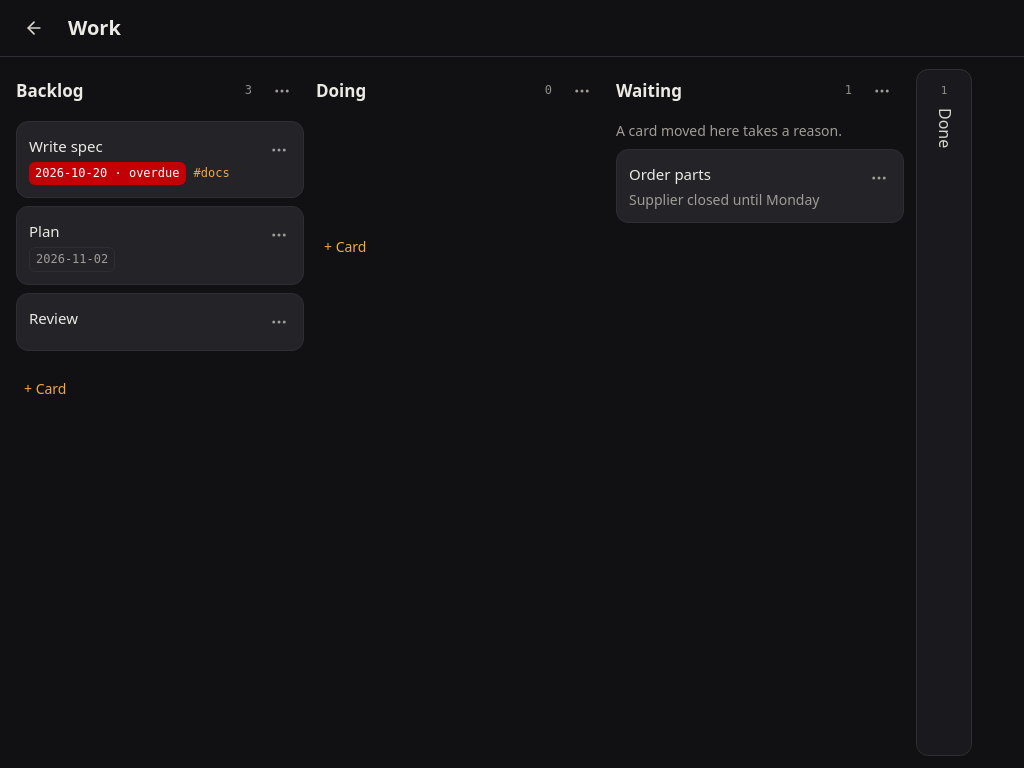
Test: the board › shows a failed Up in the lane
Click the button named "Actions for Plan".
click(279, 235)  # box [257, 213, 301, 257]
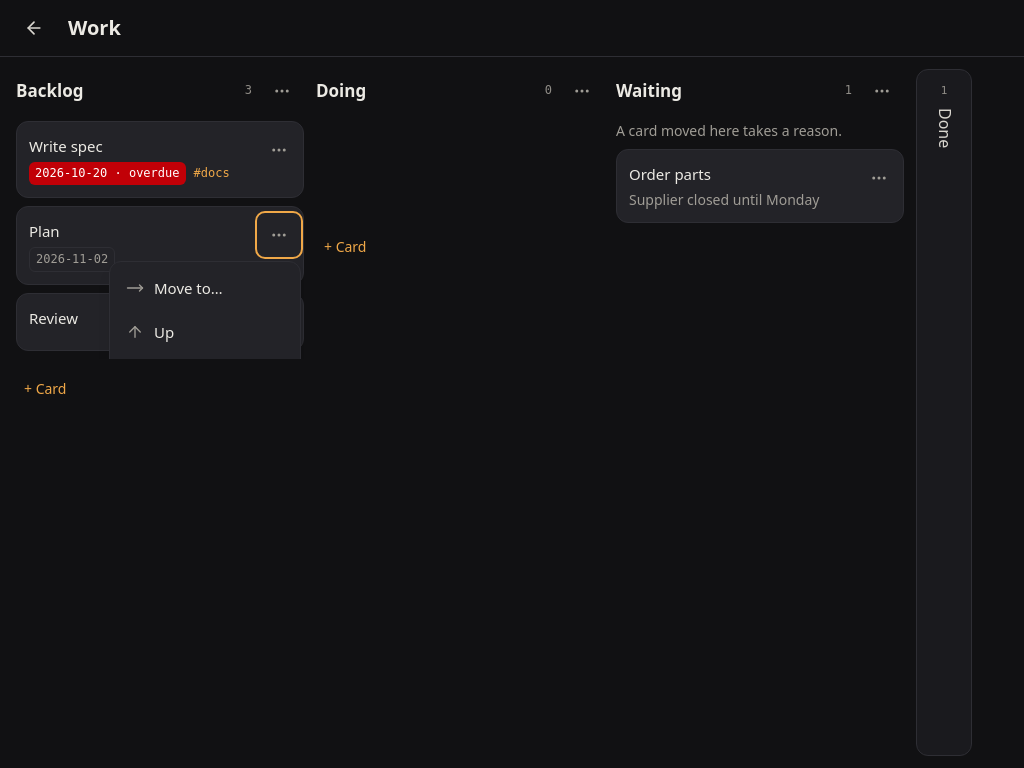
Click the menu item "Up".
click(205, 332)  # box [114, 310, 296, 354]
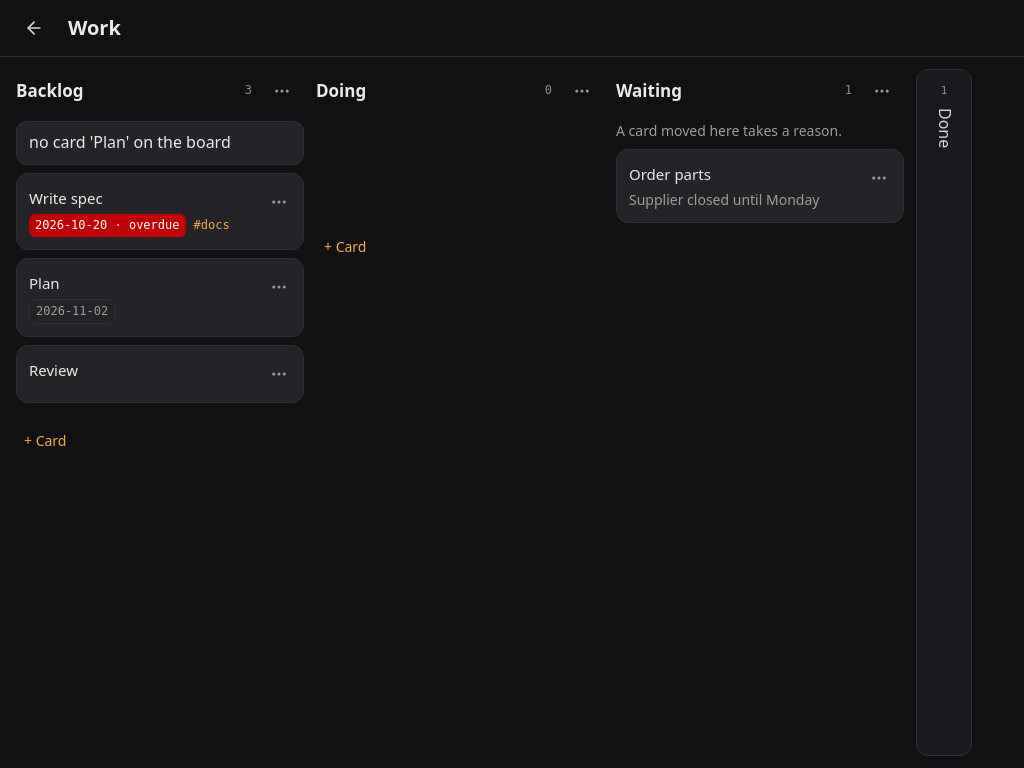
Now the message reads "no card 'Plan' on the board", box [29, 131, 231, 153]
